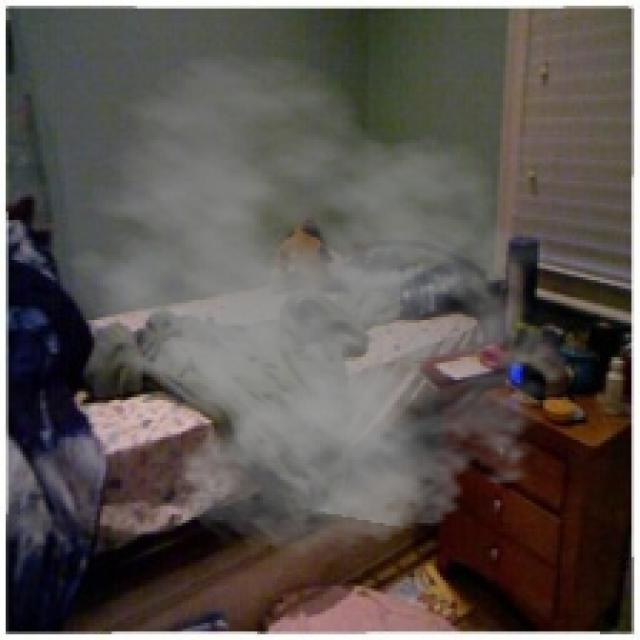smoke: (46, 48, 588, 566)
